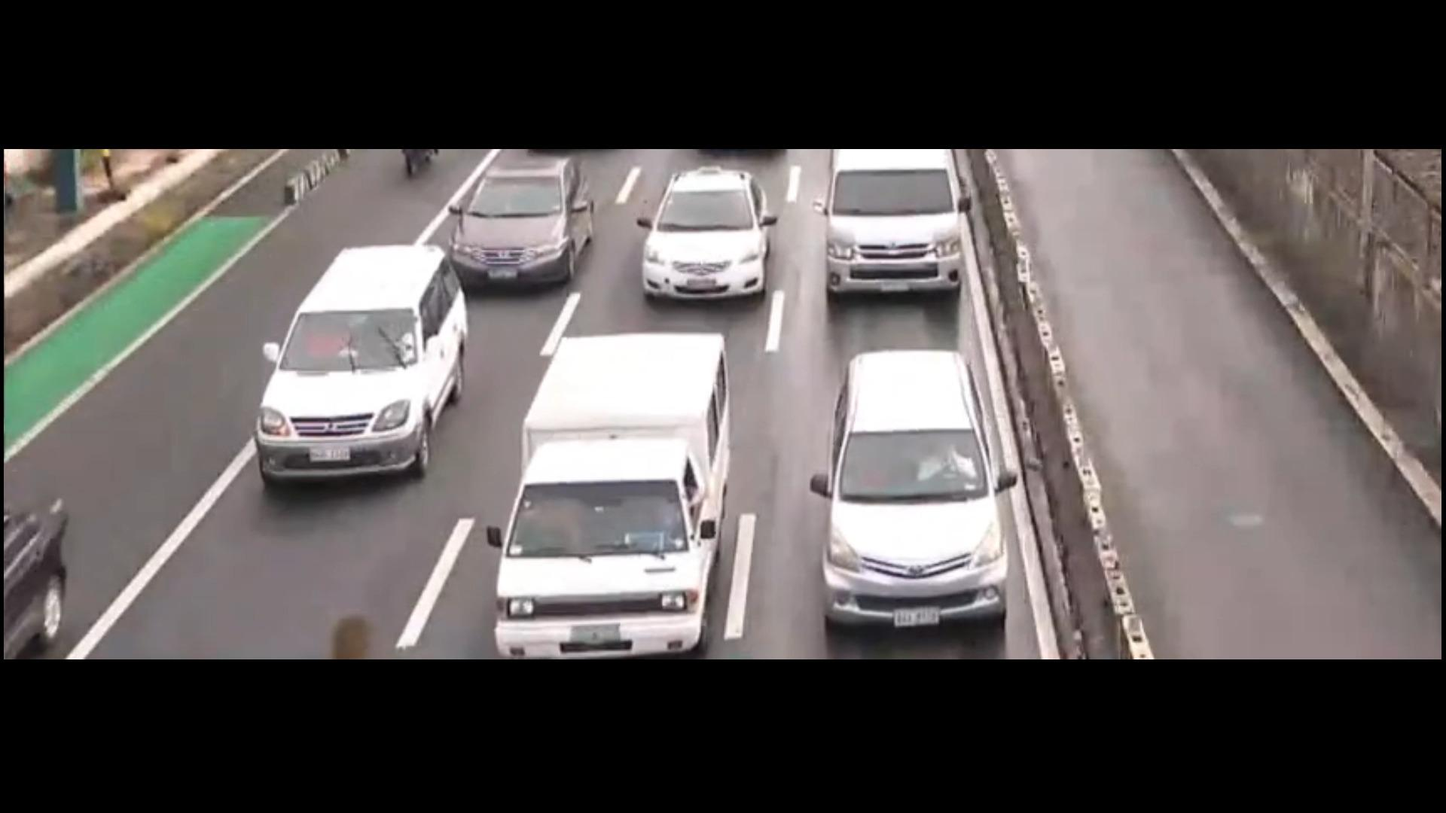Multicab: (478, 315, 761, 660)
SUV: (789, 318, 1039, 649), (219, 236, 484, 520), (460, 157, 601, 292)
Sedan: (626, 160, 778, 343)
Van: (802, 153, 974, 310)
